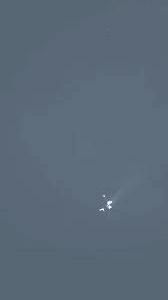Plane: (89, 177, 130, 225)
